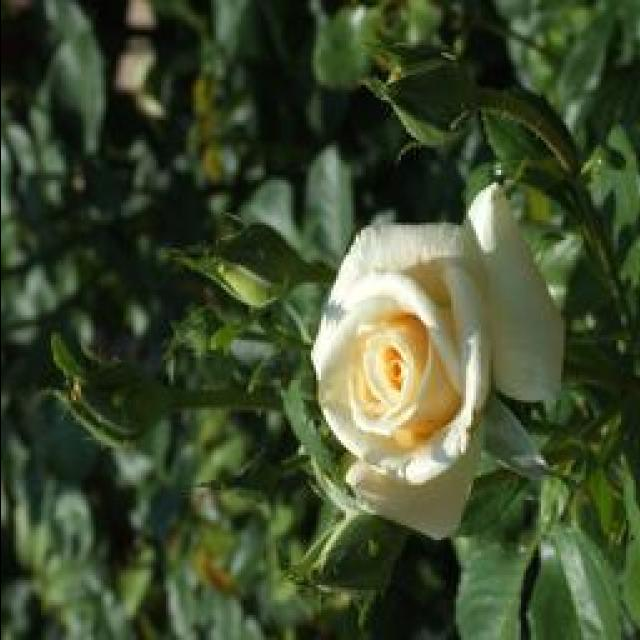rose: (294, 177, 566, 569)
